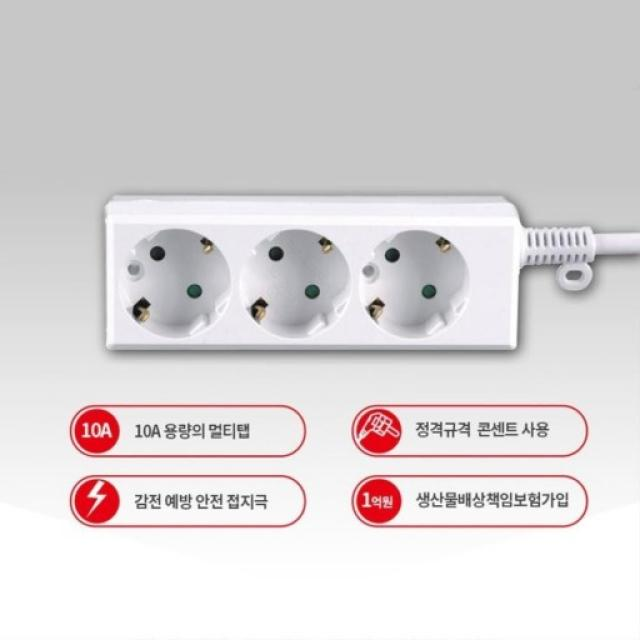typeb: (69, 172, 578, 376)
